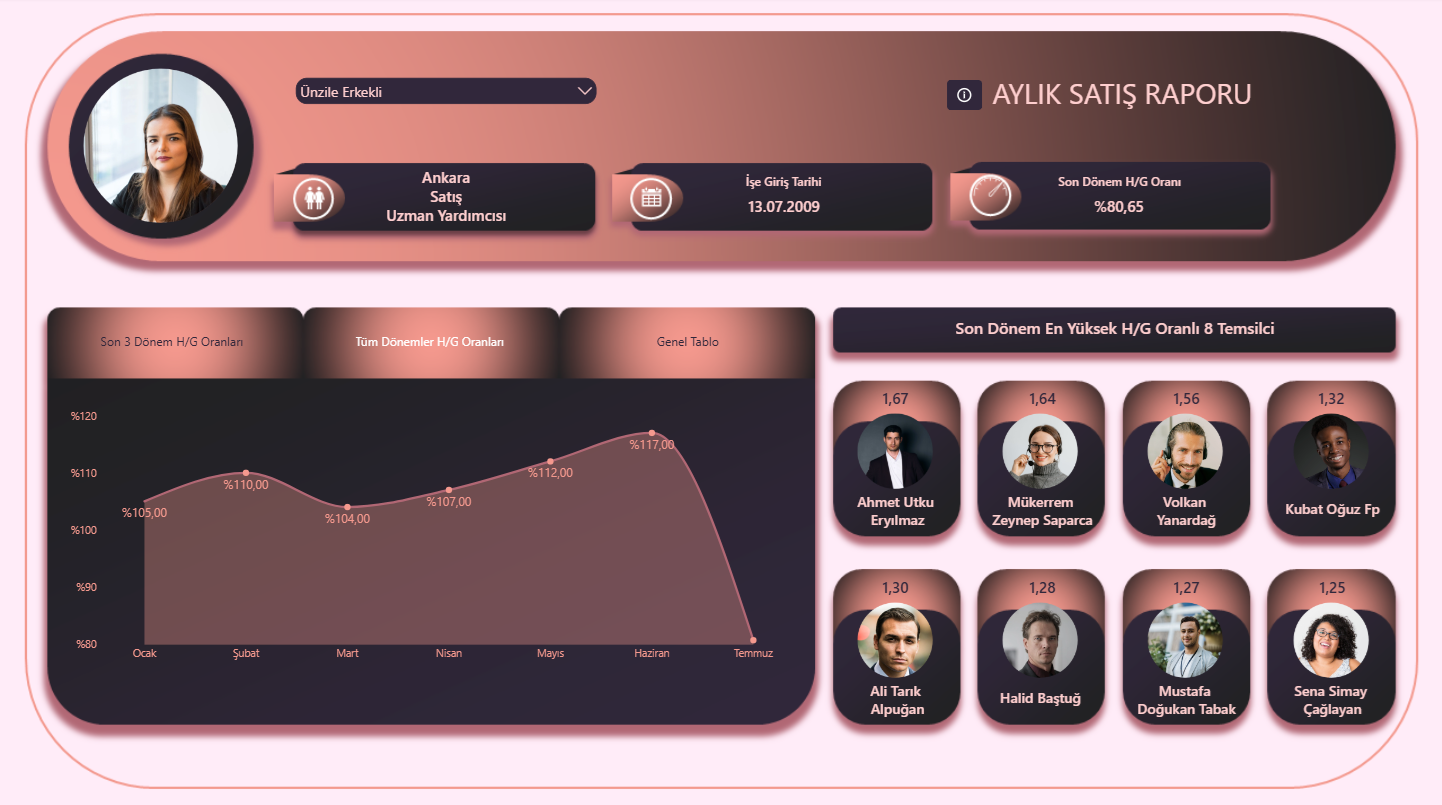

The page's visual inventory and layout, read from the dashboard file:
{"tool":"powerbi","page":{"name":"1. sayfa","canvas":[1920,1080],"ordinal":0},"visuals":[{"type":"slicer","fields":{"Values":["son_dönem.Personel İsmi"]},"box":[388.1,102.1,410,46.7],"z":0},{"type":"tableEx","fields":{"Values":["son_dönem.Foto Url"]},"box":[89,40.9,272.8,296.2],"z":1000},{"type":"card","fields":{"Values":["Min(son_dönem.Bölgesi)"]},"box":[388.1,214.5,410,55.4],"z":2000},{"type":"card","fields":{"Values":["Min(son_dönem.Görevi)"]},"box":[388.1,241.5,410,51.1],"z":3000},{"type":"card","fields":{"Values":["Min(son_dönem.Ünvanı)"]},"box":[388.1,267,410,51.1],"z":4000},{"type":"textbox","box":[844.7,233.4,395.4,37.9],"z":5000},{"type":"card","fields":{"Values":["Min(son_dönem.İşe Giriş Tarihi)"]},"box":[837.4,255.3,410,51.1],"z":6000},{"type":"textbox","box":[1291.2,233.4,395.4,37.9],"z":6001},{"type":"card","fields":{"Values":["Sum(son_dönem.H/G)"]},"box":[1283.9,255.3,410,51.1],"z":6002},{"type":"textbox","box":[1107.4,426,749.9,40.9],"z":6003},{"type":"tableEx","fields":{"Values":["Ölçüler.birinci_foto"]},"box":[1119,500.4,148.8,175.1],"z":6004},{"type":"card","fields":{"Values":["Ölçüler.birinci_isim"]},"box":[1110.3,631.7,166.3,102.1],"z":6005},{"type":"card","fields":{"Values":["Ölçüler.birinci_hg"]},"box":[1107.4,485.8,166.3,102.1],"z":6006},{"type":"tableEx","fields":{"Values":["Ölçüler.ikinci_foto"]},"box":[1311.6,500.4,148.8,175.1],"z":6007},{"type":"card","fields":{"Values":["Ölçüler.ikinci_isim"]},"box":[1302.9,631.7,166.3,102.1],"z":6008},{"type":"card","fields":{"Values":["Ölçüler.ikinci_hg"]},"box":[1302.9,485.8,166.3,102.1],"z":6009},{"type":"tableEx","fields":{"Values":["Ölçüler.ucuncu_foto"]},"box":[1504.2,500.4,148.8,175.1],"z":6010},{"type":"card","fields":{"Values":["Ölçüler.ucuncu_isim"]},"box":[1495.4,631.7,166.3,102.1],"z":6011},{"type":"card","fields":{"Values":["Ölçüler.ucuncu_hg"]},"box":[1495.4,485.8,166.3,102.1],"z":6012},{"type":"tableEx","fields":{"Values":["Ölçüler.dorduncu_foto"]},"box":[1698,500.2,148.8,175.1],"z":6013},{"type":"card","fields":{"Values":["Ölçüler.dorduncu_isim"]},"box":[1689.3,631.5,166.3,102.1],"z":6014},{"type":"card","fields":{"Values":["Ölçüler.sekizinci_hg"]},"box":[1689.5,736.8,166.3,102.1],"z":6015},{"type":"tableEx","fields":{"Values":["Ölçüler.besinci_foto"]},"box":[1119,751.4,148.8,175.1],"z":6016},{"type":"card","fields":{"Values":["Ölçüler.besinci_isim"]},"box":[1110.3,882.7,166.3,102.1],"z":6017},{"type":"card","fields":{"Values":["Ölçüler.dorduncu_hg"]},"box":[1688,485.8,166.3,102.1],"z":6018},{"type":"tableEx","fields":{"Values":["Ölçüler.altinci_foto"]},"box":[1311.6,751.4,148.8,175.1],"z":6019},{"type":"card","fields":{"Values":["Ölçüler.altinci_isim"]},"box":[1301.4,882.7,166.3,102.1],"z":6020},{"type":"card","fields":{"Values":["Ölçüler.besinci_hg"]},"box":[1107.4,736.8,166.3,102.1],"z":6021},{"type":"tableEx","fields":{"Values":["Ölçüler.yedinci_foto"]},"box":[1504.2,751.4,148.8,175.1],"z":6022},{"type":"card","fields":{"Values":["Ölçüler.yedinci_isim"]},"box":[1495.4,882.7,166.3,102.1],"z":6023},{"type":"card","fields":{"Values":["Ölçüler.altinci_hg"]},"box":[1302.9,736.8,166.3,102.1],"z":6024},{"type":"tableEx","fields":{"Values":["Ölçüler.sekizinci_foto"]},"box":[1698.2,751.4,148.8,175.1],"z":6025},{"type":"card","fields":{"Values":["Ölçüler.sekizinci_isim"]},"box":[1689.5,882.7,166.3,102.1],"z":6026},{"type":"card","fields":{"Values":["Ölçüler.yedinci_hg"]},"box":[1495.4,736.8,166.3,102.1],"z":6027},{"type":"dg5AAA90EFEFE747CB9357C4FC19B85A58","fields":{"max":["Sum(tüm_dönem_hg.Hedef)"],"pointerValue":["Sum(tüm_dönem_hg.Satış)"],"percentage":["Sum(tüm_dönem_hg.H/G)"]},"box":[70.5,583.9,318.1,342.9],"z":6028},{"type":"dg5AAA90EFEFE747CB9357C4FC19B85A58","fields":{"max":["Sum(tüm_dönem_hg.Hedef)"],"pointerValue":["Sum(tüm_dönem_hg.Satış)"],"percentage":["Sum(tüm_dönem_hg.H/G)"]},"box":[413.6,583.9,318.1,342.9],"z":6029},{"type":"dg5AAA90EFEFE747CB9357C4FC19B85A58","fields":{"max":["Sum(tüm_dönem_hg.Hedef)"],"pointerValue":["Sum(tüm_dönem_hg.Satış)"],"percentage":["Sum(tüm_dönem_hg.H/G)"]},"box":[755.5,583.9,318.1,342.9],"z":6030},{"type":"bookmarkNavigator","box":[61.1,416.9,1023.8,85.5],"z":6034},{"type":"textbox","box":[1158.5,102.4,669,55.9],"z":6035},{"type":"actionButton","box":[1259.6,110.4,46.6,39.9],"z":6036}]}

Visuals, with their boxes in screenshot pixels (x1, y1, x2, y2), scaled from the page's 1920x1080 canvas onto the 1442x805 screenshot:
slicer - son_dönem.Personel İsmi: l=291, t=76, r=599, b=111
tableEx - son_dönem.Foto Url: l=67, t=30, r=272, b=251
card - Min(son_dönem.Bölgesi): l=291, t=160, r=599, b=201
card - Min(son_dönem.Görevi): l=291, t=180, r=599, b=218
card - Min(son_dönem.Ünvanı): l=291, t=199, r=599, b=237
textbox: l=634, t=174, r=931, b=202
card - Min(son_dönem.İşe Giriş Tarihi): l=629, t=190, r=937, b=228
textbox: l=970, t=174, r=1267, b=202
card - Sum(son_dönem.H/G): l=964, t=190, r=1272, b=228
textbox: l=832, t=318, r=1395, b=348
tableEx - Ölçüler.birinci_foto: l=840, t=373, r=952, b=503
card - Ölçüler.birinci_isim: l=834, t=471, r=959, b=547
card - Ölçüler.birinci_hg: l=832, t=362, r=957, b=438
tableEx - Ölçüler.ikinci_foto: l=985, t=373, r=1097, b=503
card - Ölçüler.ikinci_isim: l=979, t=471, r=1103, b=547
card - Ölçüler.ikinci_hg: l=979, t=362, r=1103, b=438
tableEx - Ölçüler.ucuncu_foto: l=1130, t=373, r=1241, b=503
card - Ölçüler.ucuncu_isim: l=1123, t=471, r=1248, b=547
card - Ölçüler.ucuncu_hg: l=1123, t=362, r=1248, b=438
tableEx - Ölçüler.dorduncu_foto: l=1275, t=373, r=1387, b=503
card - Ölçüler.dorduncu_isim: l=1269, t=471, r=1394, b=547
card - Ölçüler.sekizinci_hg: l=1269, t=549, r=1394, b=625
tableEx - Ölçüler.besinci_foto: l=840, t=560, r=952, b=691
card - Ölçüler.besinci_isim: l=834, t=658, r=959, b=734
card - Ölçüler.dorduncu_hg: l=1268, t=362, r=1393, b=438
tableEx - Ölçüler.altinci_foto: l=985, t=560, r=1097, b=691
card - Ölçüler.altinci_isim: l=977, t=658, r=1102, b=734
card - Ölçüler.besinci_hg: l=832, t=549, r=957, b=625
tableEx - Ölçüler.yedinci_foto: l=1130, t=560, r=1241, b=691
card - Ölçüler.yedinci_isim: l=1123, t=658, r=1248, b=734
card - Ölçüler.altinci_hg: l=979, t=549, r=1103, b=625
tableEx - Ölçüler.sekizinci_foto: l=1275, t=560, r=1387, b=691
card - Ölçüler.sekizinci_isim: l=1269, t=658, r=1394, b=734
card - Ölçüler.yedinci_hg: l=1123, t=549, r=1248, b=625
dg5AAA90EFEFE747CB9357C4FC19B85A58 - Sum(tüm_dönem_hg.Hedef) x Sum(tüm_dönem_hg.Satış): l=53, t=435, r=292, b=691
dg5AAA90EFEFE747CB9357C4FC19B85A58 - Sum(tüm_dönem_hg.Hedef) x Sum(tüm_dönem_hg.Satış): l=311, t=435, r=550, b=691
dg5AAA90EFEFE747CB9357C4FC19B85A58 - Sum(tüm_dönem_hg.Hedef) x Sum(tüm_dönem_hg.Satış): l=567, t=435, r=806, b=691
bookmarkNavigator: l=46, t=311, r=815, b=374
textbox: l=870, t=76, r=1373, b=118
actionButton: l=946, t=82, r=981, b=112
